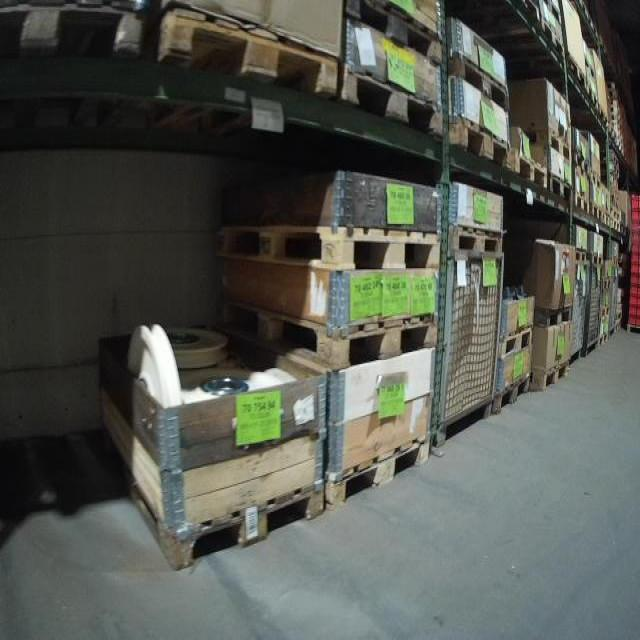pallet: (97, 415, 324, 573), (158, 7, 337, 104), (214, 217, 442, 285), (223, 297, 437, 365), (2, 4, 156, 65), (342, 61, 445, 145), (325, 432, 432, 510), (342, 3, 445, 61), (484, 2, 574, 61), (437, 113, 519, 173), (447, 51, 514, 106), (439, 217, 505, 256), (490, 369, 534, 424), (519, 127, 575, 161), (490, 323, 538, 362), (545, 55, 588, 89), (515, 148, 546, 194), (538, 355, 574, 390), (530, 301, 573, 328), (548, 173, 577, 209), (581, 77, 600, 115), (564, 245, 588, 268), (575, 192, 592, 220), (573, 149, 590, 177), (589, 172, 606, 194), (592, 201, 605, 226), (598, 304, 615, 321), (600, 331, 613, 349), (615, 304, 629, 320), (600, 210, 613, 227), (588, 254, 603, 268), (610, 204, 622, 221), (620, 223, 631, 241), (598, 276, 613, 289), (613, 321, 624, 337), (613, 220, 621, 233)
small_load_carrier: (631, 191, 639, 207), (629, 296, 639, 307), (629, 317, 639, 328), (631, 230, 639, 242), (631, 284, 639, 296), (631, 263, 639, 274), (633, 211, 639, 225), (631, 253, 639, 263), (631, 274, 639, 284), (630, 307, 638, 317), (632, 246, 639, 253)
stillage: (432, 249, 510, 453), (562, 256, 595, 369), (583, 259, 606, 361), (608, 266, 622, 339)
